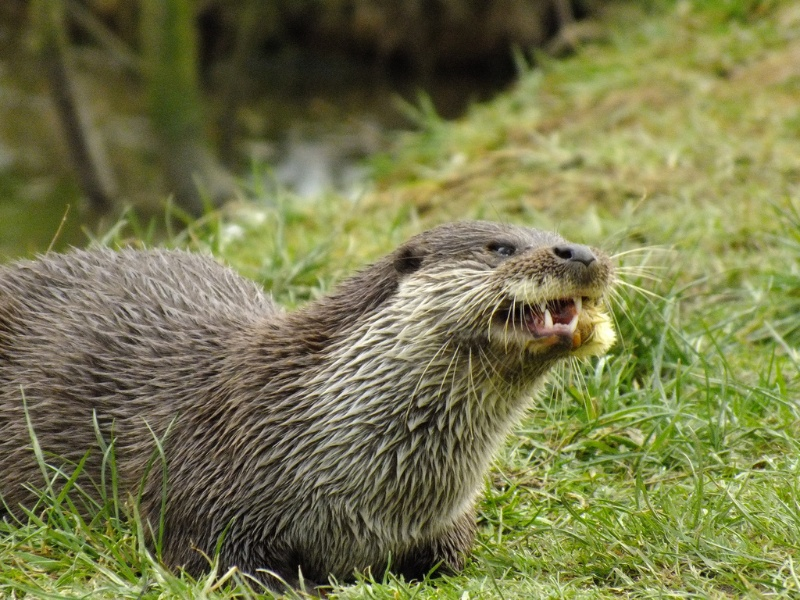minkish: (1, 212, 627, 578)
